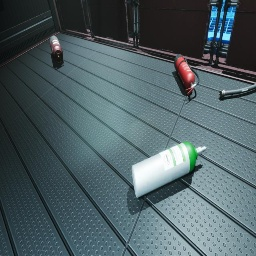0: (132, 141, 207, 198)
FireExtinguisher ]: (174, 54, 200, 96)
NitrogenTank ,: (50, 36, 63, 64)
